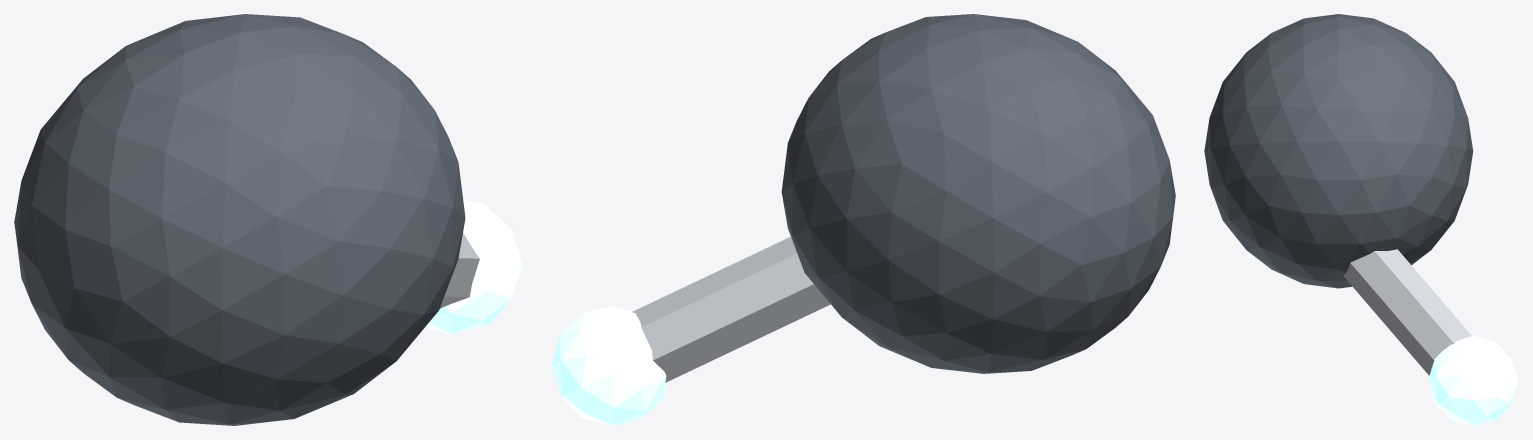
Rendered from agarre_5.glb.
3 renders of one model, left to right at view 1: azimuth 30°, elevation 25°; view 2: azimuth 150°, elevation 25°; view 3: azimuth 270°, elevation 25°, orthographic. The views are drawn at different scales.
Parts seen in each view (by area): view 1: nucleo, punta, brazo; view 2: nucleo, brazo, punta; view 3: nucleo, brazo, punta.
Boxes of the visible parts, bbox=[...] form: nucleo: bbox=[14, 14, 465, 425]; punta: bbox=[425, 199, 522, 334]; brazo: bbox=[440, 233, 479, 308]; nucleo: bbox=[781, 14, 1175, 373]; brazo: bbox=[632, 236, 830, 382]; punta: bbox=[551, 306, 668, 425]; nucleo: bbox=[1204, 14, 1473, 288]; brazo: bbox=[1343, 249, 1471, 375]; punta: bbox=[1428, 336, 1518, 425].
Size of the model in its own units: 0.9 by 0.6682 by 0.6513.
